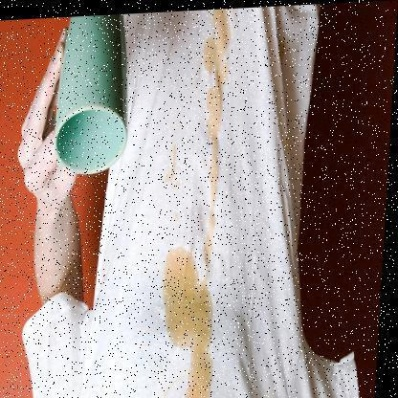coffee: (162, 249, 213, 349), (198, 13, 232, 82), (206, 89, 222, 201), (189, 355, 211, 398)
